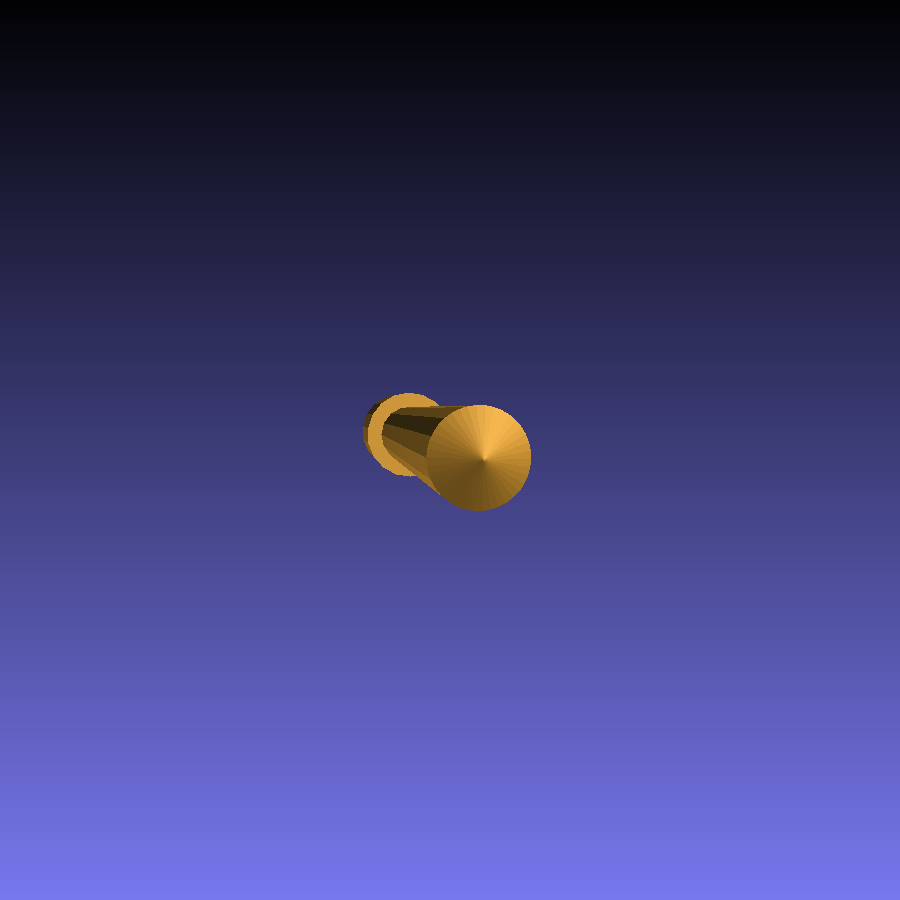cargo_g: (364, 390, 532, 511)
